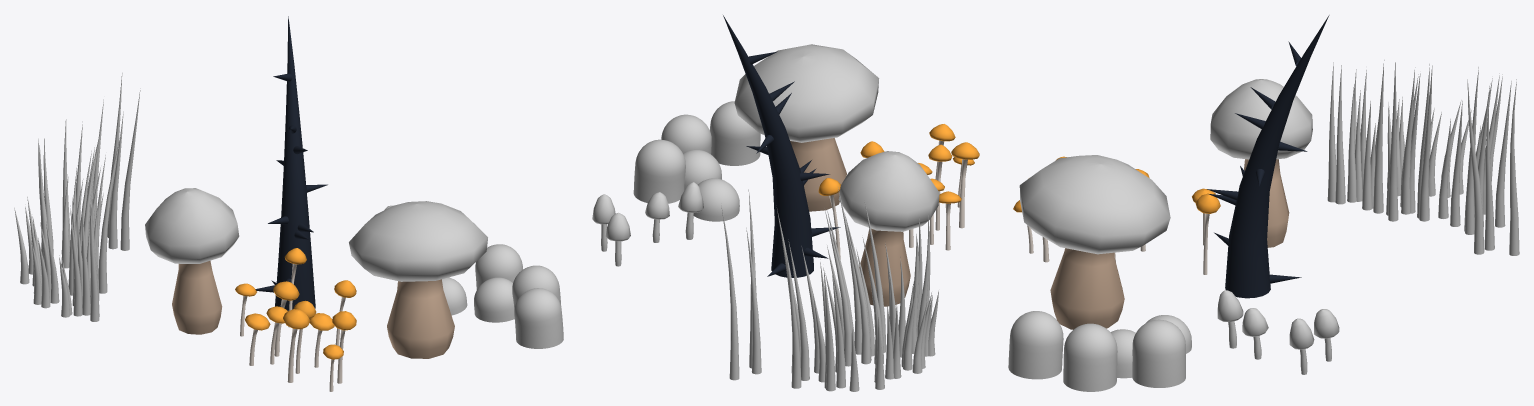
File: plants 1.fbx
3 renders of one model, left to right at view 1: azimuth 30°, elevation 25°; view 2: azimuth 150°, elevation 25°; view 3: azimuth 270°, elevation 25°, orthographic. The views are drawn at different scales.
Parts seen in each view (by area): view 1: Loft_11, Hair_9, Loft_12, Hair_10, Hair_2, Loft_5, Loft_1, Loft_7, Loft_3, Loft_9; view 2: Hair_9, Loft_11, Hair_10, Loft_12, Hair_2, Loft_13, Loft_5, Loft_14, Loft_15, Loft_16, Loft_2, Loft_6 (+2 smaller); view 3: Hair_9, Loft_11, Hair_10, Hair_2, Loft_12, Loft_13, Loft_15, Loft_14, Loft_16, Loft_2.
Boxes of the visible parts, left/top/right/bottom form: Loft_11: left=349, top=201, right=487, bottom=358; Hair_9: left=14, top=73, right=140, bottom=321; Loft_12: left=145, top=188, right=239, bottom=334; Hair_10: left=442, top=244, right=563, bottom=348; Hair_2: left=255, top=16, right=327, bottom=311; Loft_5: left=283, top=309, right=310, bottom=382; Loft_1: left=332, top=311, right=356, bottom=383; Loft_7: left=273, top=281, right=299, bottom=356; Loft_3: left=309, top=313, right=334, bottom=367; Loft_9: left=245, top=313, right=270, bottom=365; Hair_9: left=721, top=187, right=938, bottom=391; Loft_11: left=734, top=44, right=879, bottom=211; Hair_10: left=633, top=101, right=760, bottom=221; Loft_12: left=838, top=151, right=939, bottom=306; Hair_2: left=723, top=15, right=840, bottom=277; Loft_13: left=678, top=182, right=703, bottom=239; Loft_5: left=951, top=142, right=979, bottom=228; Loft_14: left=605, top=212, right=630, bottom=266; Loft_15: left=592, top=194, right=615, bottom=251; Loft_16: left=645, top=192, right=669, bottom=242; Loft_2: left=818, top=178, right=840, bottom=259; Loft_6: left=928, top=144, right=951, bottom=230; Hair_9: left=1327, top=60, right=1519, bottom=255; Loft_11: left=1019, top=155, right=1170, bottom=329; Hair_10: left=1008, top=311, right=1191, bottom=391; Hair_2: left=1207, top=15, right=1329, bottom=298; Loft_12: left=1210, top=79, right=1312, bottom=247; Loft_13: left=1217, top=290, right=1243, bottom=348; Loft_15: left=1289, top=318, right=1314, bottom=374; Loft_14: left=1314, top=309, right=1339, bottom=361; Loft_16: left=1242, top=308, right=1268, bottom=359; Loft_2: left=1195, top=193, right=1220, bottom=274.
Size of the model in its own units: 373 by 240 by 381.
